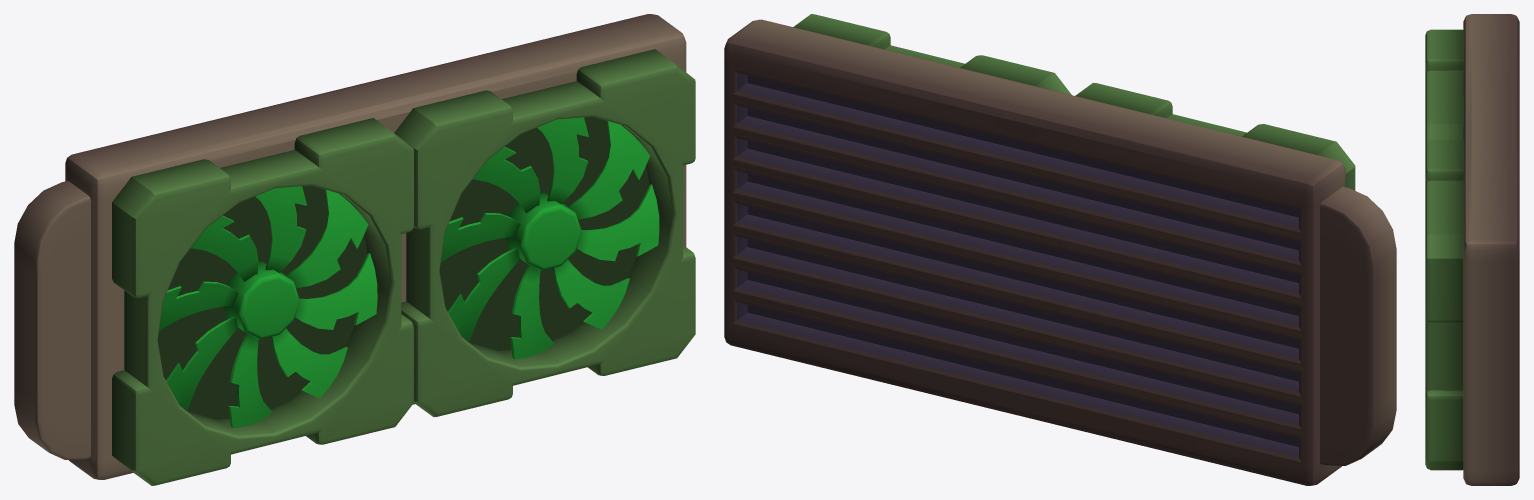
File: Cooling_systems_lvl_08_V05.fbx
3 views of the same model, side by side, from view 1: azimuth 30°, elevation 25°; view 2: azimuth 150°, elevation 25°; view 3: azimuth 270°, elevation 25° (orthographic). The views are drawn at different scales.
Visible parts, largest first — view 1: Body_Cooling, Fan_Cooling_01, Fan_Cooling_01.001; view 2: Body_Cooling; view 3: Body_Cooling.
Boxes of the visible parts, left/top/right/bottom form: Body_Cooling: left=14, top=14, right=695, bottom=485; Fan_Cooling_01: left=159, top=186, right=377, bottom=427; Fan_Cooling_01.001: left=441, top=117, right=659, bottom=359; Body_Cooling: left=724, top=14, right=1396, bottom=485; Body_Cooling: left=1425, top=14, right=1519, bottom=485.
Bounding box in the file's own units: 119 × 53.89 × 18.72.
